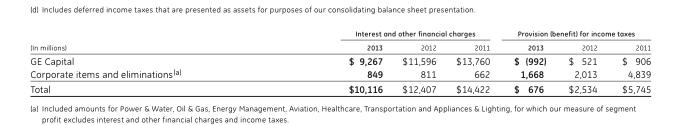table: (29, 28, 650, 93)
table column: (29, 28, 264, 93), (264, 28, 391, 93), (445, 28, 501, 93), (501, 28, 556, 93), (391, 28, 445, 93), (556, 28, 608, 93), (608, 28, 650, 93)
table column header: (29, 28, 650, 52)
table row: (29, 52, 650, 66), (29, 66, 650, 80), (29, 80, 650, 93), (29, 28, 650, 40), (29, 40, 650, 52)
table spanning cell: (29, 28, 264, 52), (264, 28, 501, 40), (501, 28, 650, 40)
